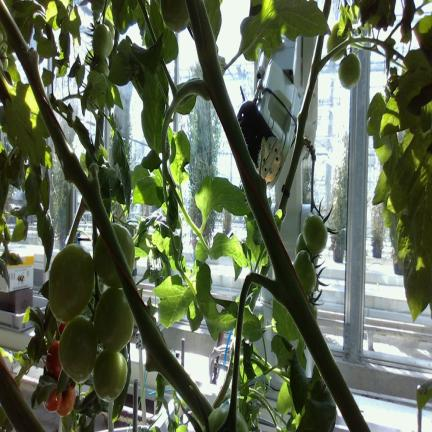6kp_peduncle: (236, 218, 319, 346), (292, 118, 315, 172)
6kp_petiole: (178, 22, 241, 143), (306, 37, 333, 92)
MainStem: (0, 0, 214, 424), (186, 0, 370, 430), (278, 35, 324, 214), (0, 350, 46, 432)
tomato: (49, 244, 94, 322), (59, 315, 98, 383), (94, 223, 135, 287), (94, 287, 134, 351), (93, 350, 127, 401), (208, 403, 248, 431), (44, 385, 76, 416), (294, 250, 316, 295), (303, 214, 327, 254), (161, 0, 189, 32), (338, 53, 361, 89), (326, 22, 345, 61), (295, 232, 318, 263), (92, 24, 112, 59), (46, 340, 61, 378), (57, 385, 75, 416), (104, 19, 114, 40), (95, 61, 109, 76), (1, 52, 8, 70), (0, 35, 3, 50)
